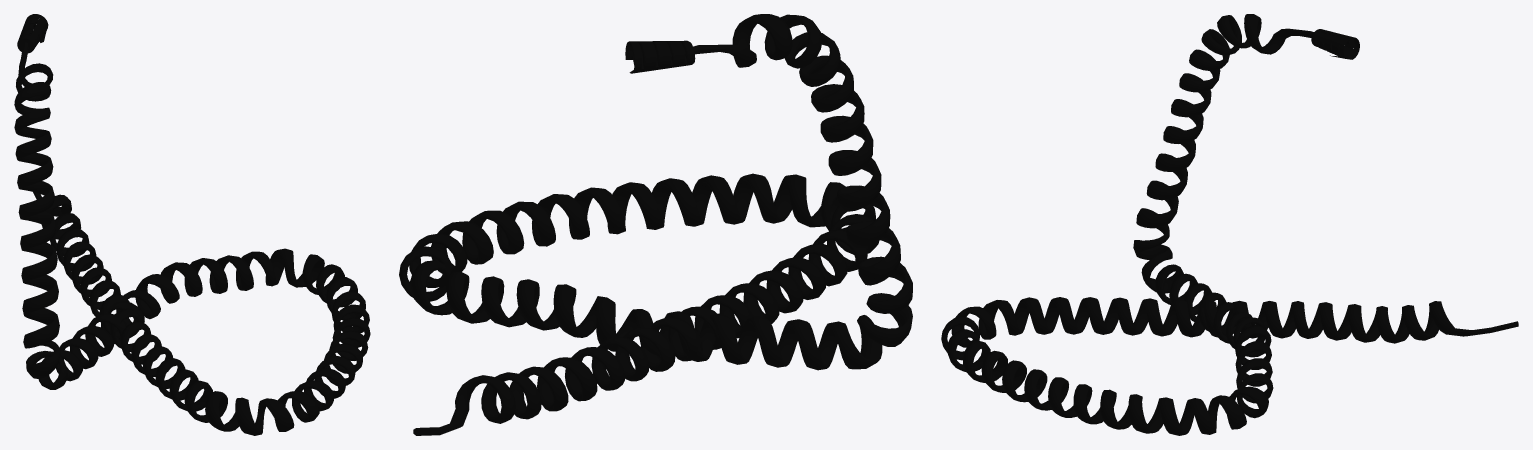
File: phone_cable.glb
The picture shows the model from 3 angles, left to right: view 1: azimuth 30°, elevation 25°; view 2: azimuth 150°, elevation 25°; view 3: azimuth 270°, elevation 25°; orthographic projection. The views are drawn at different scales.
Parts seen in each view (by area): view 1: Phone_cable; view 2: Phone_cable; view 3: Phone_cable.
Boxes of the visible parts, left/top/right/bottom form: Phone_cable: left=14, top=14, right=370, bottom=435; Phone_cable: left=399, top=14, right=912, bottom=435; Phone_cable: left=941, top=14, right=1518, bottom=435.
Size of the model in its own units: 0.1404 by 0.1134 by 0.2021.
Materials: 1 (1 with a texture image).
